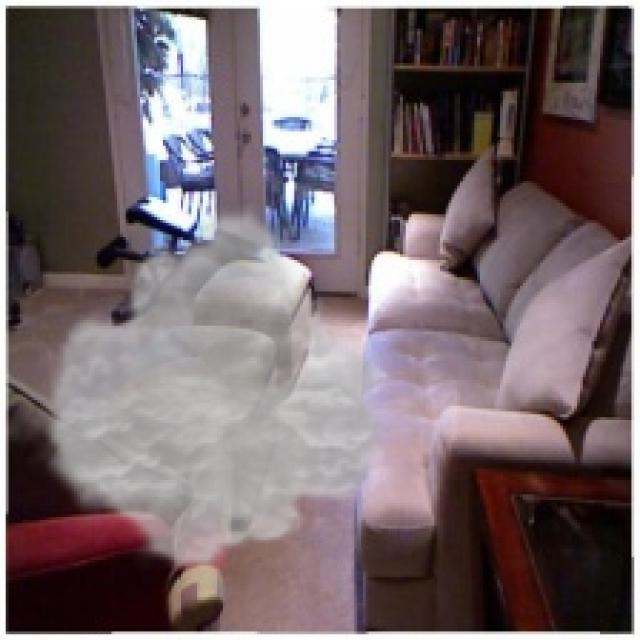smoke: (37, 203, 392, 571)
